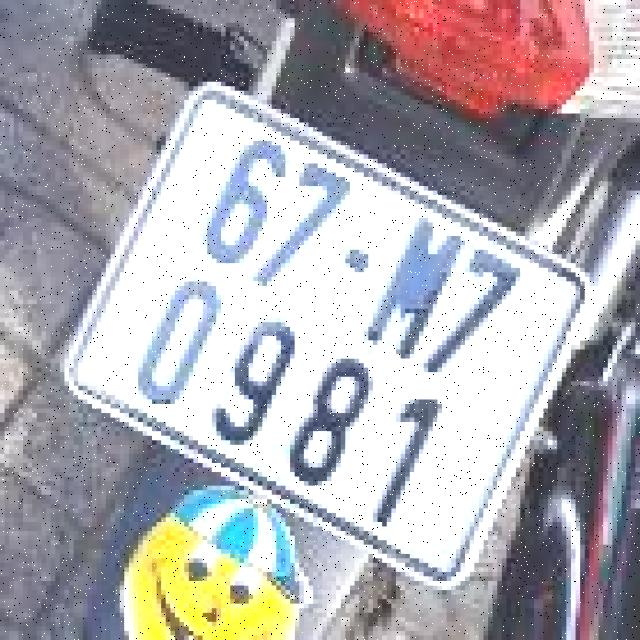0: (117, 261, 237, 425)
1: (354, 370, 468, 536)
6: (182, 116, 304, 291)
7: (232, 152, 376, 315), (413, 228, 545, 386)
8: (268, 341, 386, 513)
9: (193, 298, 312, 465)
M: (351, 201, 477, 371)
